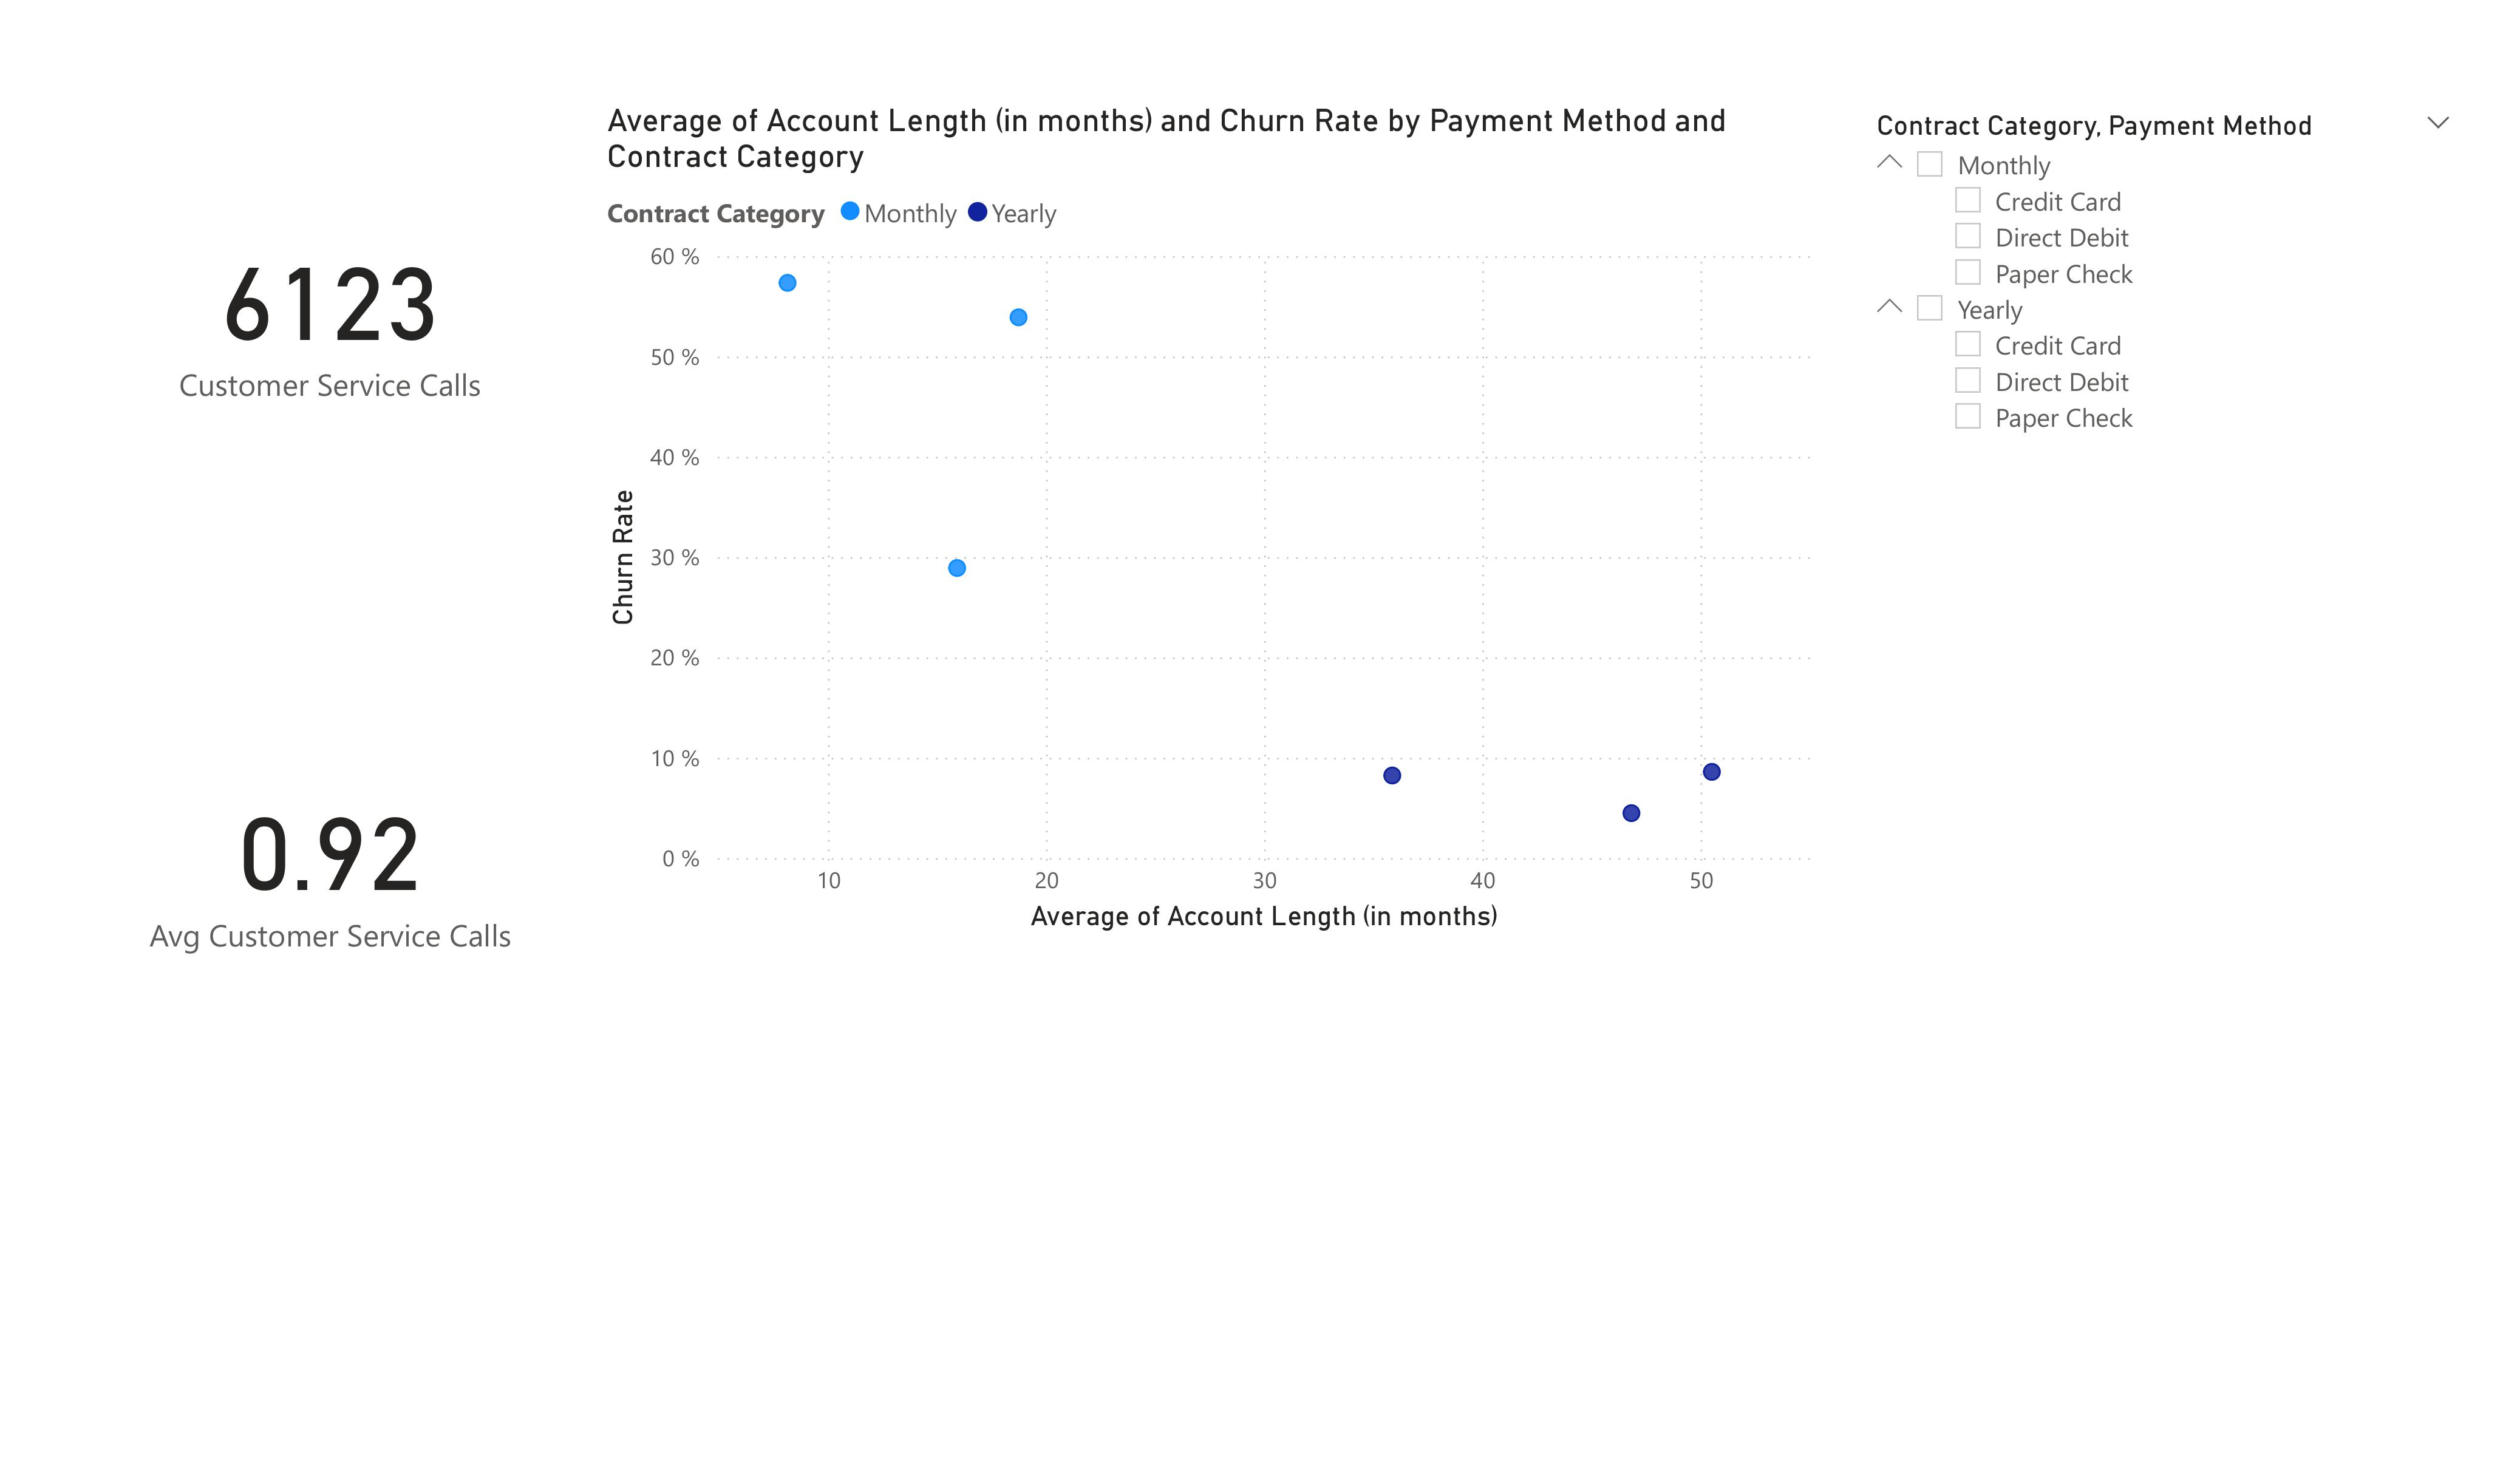

The page's visual inventory and layout, read from the dashboard file:
{"tool":"powerbi","page":{"name":"Payment and Contract","canvas":[1280,720],"ordinal":7},"visuals":[{"type":"card","fields":{"Values":["Sum(Databel - Data.Customer Service Calls)"]},"box":[10,0,280,280],"z":0},{"type":"card","fields":{"Values":["Databel - Data.Avg Customer Service Calls"]},"box":[10,290,280,280],"z":1000},{"type":"scatterChart","fields":{"Y":["Databel - Data.Churn Rate"],"X":["Databel - Data.Account Length (in months)"],"Category":["Databel - Data.Payment Method"],"Series":["Databel - Data.Contract Category"]},"box":[290.9,29.1,650.7,442.5],"z":2000},{"type":"slicer","fields":{"Values":["Databel - Data.Contract Category","Databel - Data.Payment Method"]},"box":[952,29,328,442],"z":3000}]}

Visuals, with their boxes in screenshot pixels (x1, y1, x2, y2):
card - Sum(Databel - Data.Customer Service Calls): {"left": 64, "top": 46, "right": 596, "bottom": 577}
card - Databel - Data.Avg Customer Service Calls: {"left": 64, "top": 596, "right": 596, "bottom": 1127}
scatterChart - Databel - Data.Churn Rate x Databel - Data.Account Length (in months): {"left": 598, "top": 101, "right": 1833, "bottom": 940}
slicer - Databel - Data.Contract Category x Databel - Data.Payment Method: {"left": 1852, "top": 101, "right": 2474, "bottom": 939}
